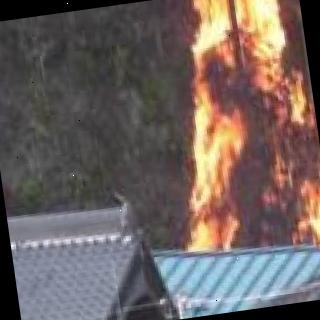fire: (154, 0, 320, 258)
